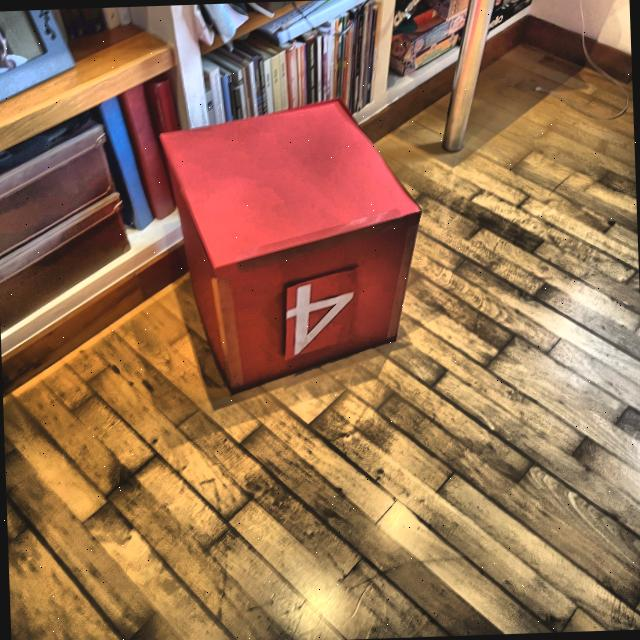four: (284, 282, 354, 358)
red box: (158, 95, 426, 398)
